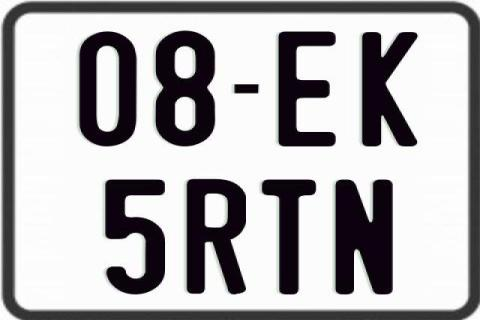0: (102, 178, 168, 294), (77, 29, 139, 150), (155, 31, 217, 151)
E: (278, 31, 342, 148)
K: (362, 32, 422, 148)
N: (333, 177, 397, 296)
R: (185, 180, 249, 300)
T: (260, 178, 319, 296)
